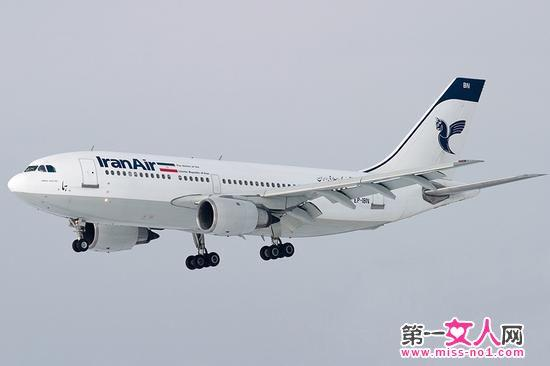airplane: (7, 76, 550, 259)
